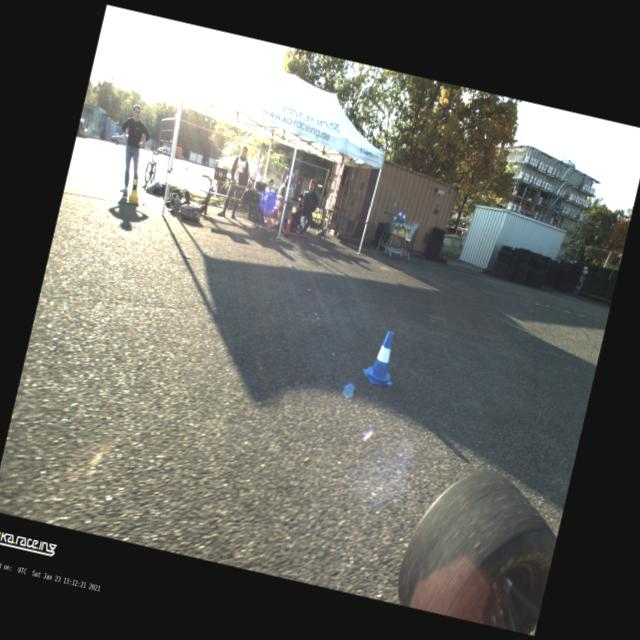blue_cone: (358, 326, 404, 388), (396, 208, 402, 220), (400, 210, 406, 222), (392, 212, 396, 220)
yellow_cone: (128, 178, 142, 204), (398, 222, 406, 236), (402, 223, 408, 236), (392, 222, 398, 234), (396, 223, 402, 235), (405, 225, 410, 238)
